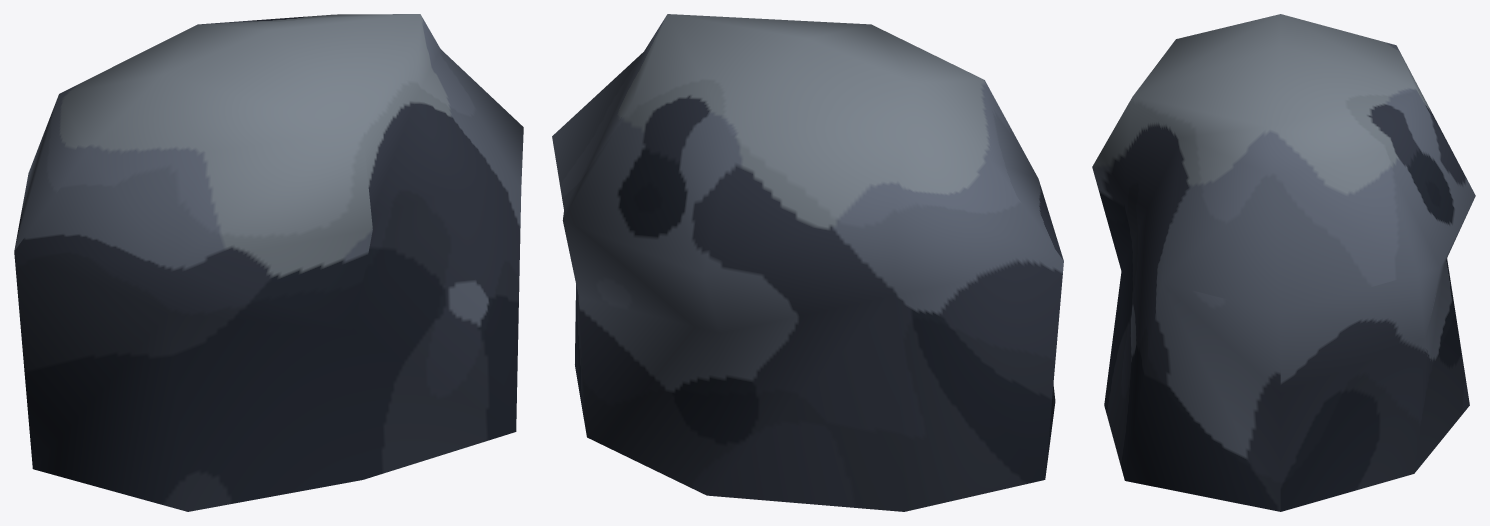
The model's file is Boulder_preview_3DS_simplified.glb.
The picture shows the model from 3 angles, left to right: view 1: azimuth 30°, elevation 25°; view 2: azimuth 150°, elevation 25°; view 3: azimuth 270°, elevation 25°; orthographic projection. The views are drawn at different scales.
Parts seen in each view (by area): view 1: Marine Park Empire model; view 2: Marine Park Empire model; view 3: Marine Park Empire model.
Part boxes in pixels (left/top/right/bottom): Marine Park Empire model: left=14, top=14, right=523, bottom=511; Marine Park Empire model: left=552, top=14, right=1063, bottom=511; Marine Park Empire model: left=1092, top=14, right=1475, bottom=511.
Bounding box in the file's own units: 164 × 117 × 113.
1 material, 1 textured.
